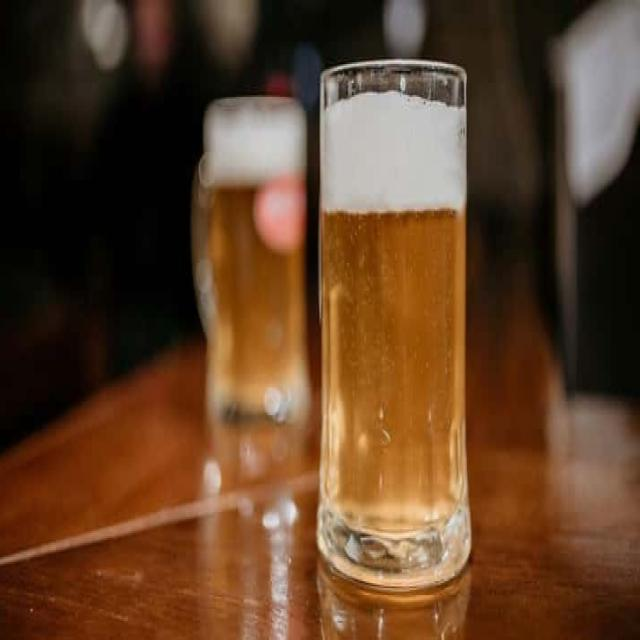Cup: (316, 61, 468, 595), (196, 100, 307, 428)
